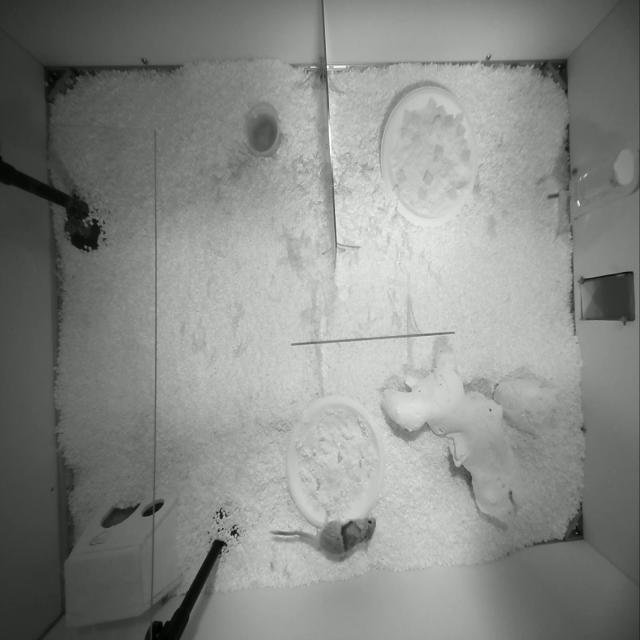adult_front: (270, 516, 376, 556)
